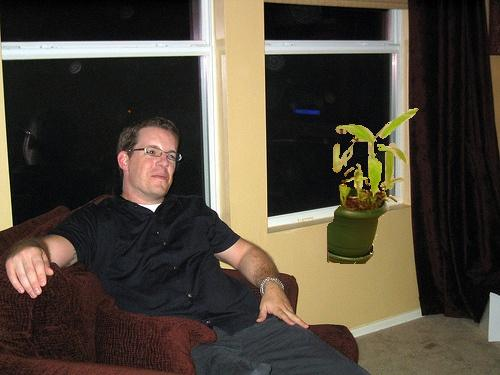tampered: (129, 109, 419, 264)
